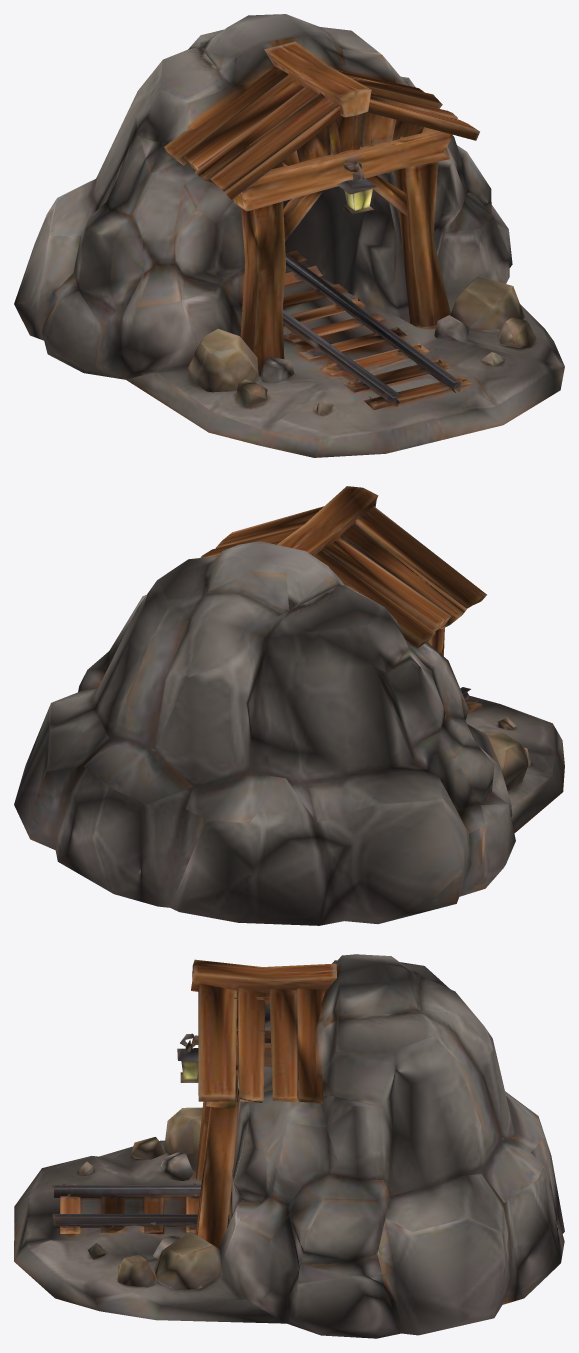
File: k-mine-semis.glb
3 views of the same model, one above another, from view 1: azimuth 30°, elevation 25°; view 2: azimuth 150°, elevation 25°; view 3: azimuth 270°, elevation 25° (orthographic). The views are drawn at different scales.
Visible parts, largest first — view 1: k-mine-semis; view 2: k-mine-semis; view 3: k-mine-semis.
Boxes of the visible parts, x1,y1,x2,y2 form: k-mine-semis: (14,14,564,457); k-mine-semis: (14,486,564,925); k-mine-semis: (14,954,564,1338).
Bounding box in the file's own units: 0.8554 × 0.5223 × 0.9566.
Materials: 1 (1 with a texture image).
